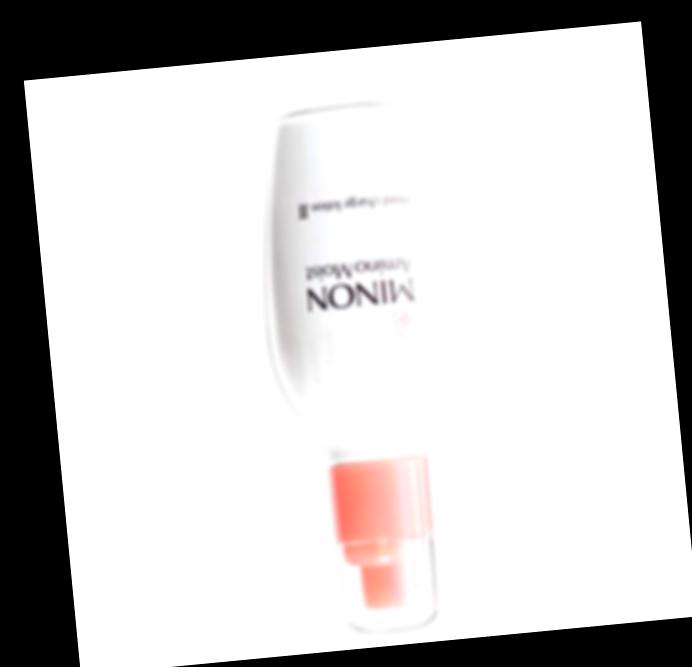cosmetic: (244, 92, 491, 645)
